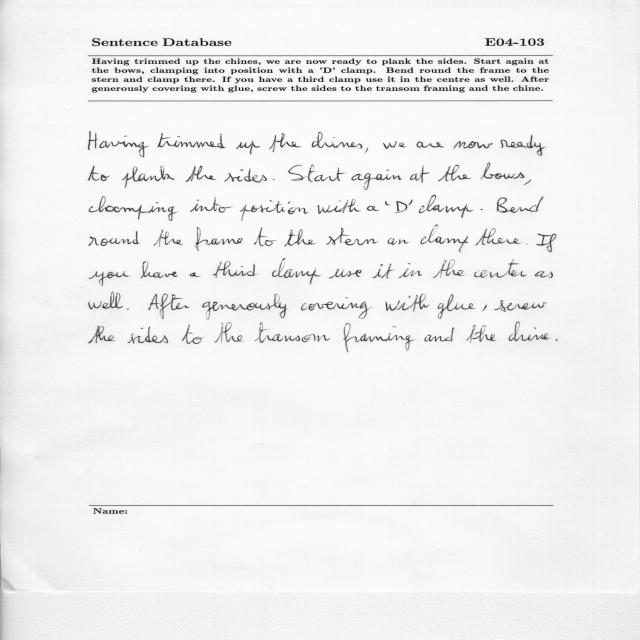word: (89, 196, 178, 221), (202, 294, 287, 320), (343, 323, 415, 352), (255, 322, 330, 343), (301, 297, 372, 319), (88, 132, 149, 157), (240, 200, 308, 221), (420, 225, 469, 252), (272, 259, 321, 284), (421, 195, 473, 218), (122, 166, 175, 188), (195, 227, 243, 251), (149, 293, 190, 319), (158, 133, 226, 148), (352, 170, 402, 190), (474, 259, 526, 278), (288, 165, 345, 182), (501, 135, 546, 156), (438, 294, 475, 319), (326, 228, 378, 245), (312, 132, 363, 149), (508, 322, 550, 341), (497, 196, 543, 213), (476, 228, 521, 245), (213, 261, 258, 278), (89, 231, 139, 246), (481, 163, 525, 180), (386, 294, 430, 311), (128, 327, 169, 344), (190, 197, 233, 213), (140, 262, 178, 279), (318, 199, 361, 214), (494, 300, 546, 312), (89, 271, 130, 286), (269, 133, 301, 152), (433, 260, 465, 279), (224, 169, 267, 183), (89, 292, 123, 309), (215, 323, 243, 343), (466, 325, 496, 343), (438, 165, 471, 181), (284, 230, 315, 247), (153, 230, 183, 247), (185, 166, 216, 182), (89, 326, 115, 344), (254, 227, 277, 246), (182, 324, 203, 344), (425, 328, 454, 342), (537, 234, 557, 253), (398, 264, 422, 279), (410, 166, 429, 183), (453, 141, 493, 149), (89, 166, 110, 181), (236, 141, 260, 154), (373, 264, 393, 279), (329, 269, 362, 278), (395, 199, 413, 213), (383, 141, 406, 149), (417, 142, 444, 148), (387, 238, 409, 245), (535, 271, 553, 278), (367, 206, 379, 211), (189, 272, 200, 277), (418, 208, 426, 213), (524, 180, 531, 185), (482, 306, 487, 312), (385, 201, 390, 205), (365, 148, 368, 153), (127, 308, 129, 310), (556, 339, 558, 341), (273, 179, 275, 180), (481, 209, 483, 210), (491, 230, 492, 231)
